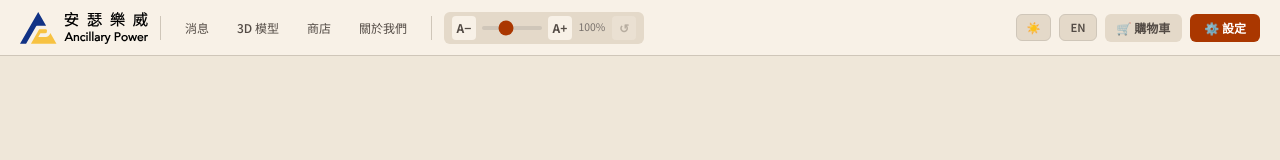
Navbar › toggles language when language button is clicked
Click the button with aria-label "切換語言": point(1078, 27) [1060,14,1097,41]
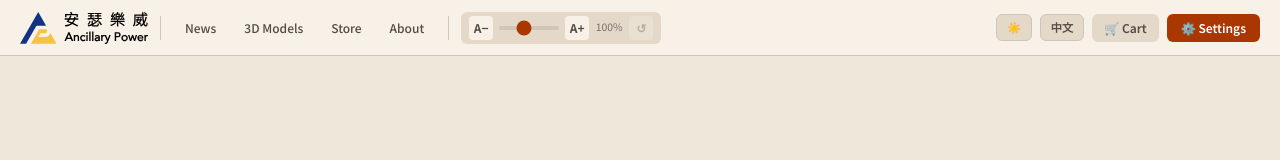
Expected: the button named "切換語言" reads "中文", [1040,14,1084,41]
